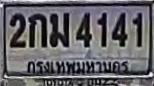1: (133, 13, 142, 47), (97, 13, 106, 47)
2: (10, 13, 26, 48)
4: (76, 13, 92, 48), (112, 12, 127, 47)
A01: (28, 14, 48, 48)
A33: (49, 13, 70, 47)
BKK: (23, 57, 129, 76)
